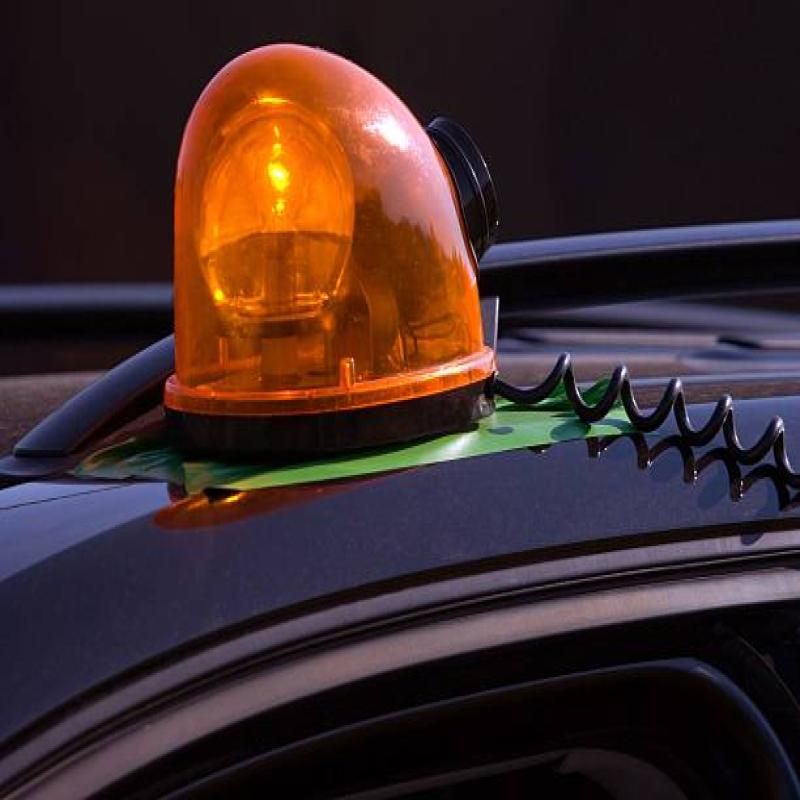AmbulanceSiren: (149, 50, 547, 471)
